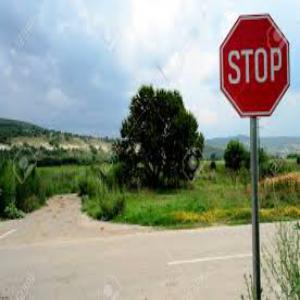STOP_SIGN: (218, 12, 291, 118)
